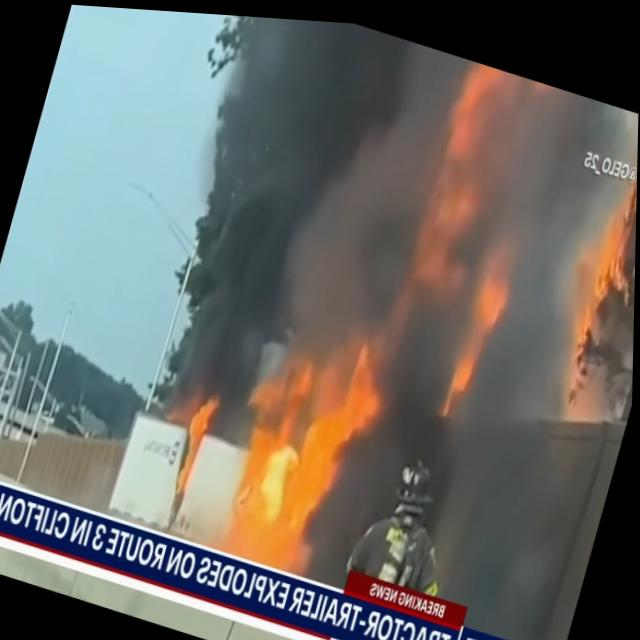Fire: (224, 351, 367, 579), (409, 50, 518, 263), (424, 245, 535, 428), (559, 165, 638, 381)
